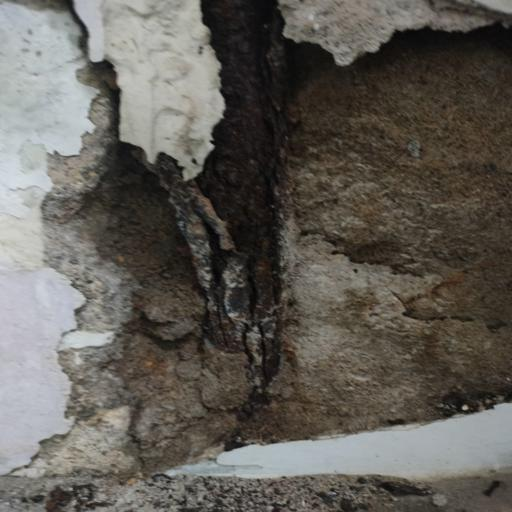spalling: (44, 14, 505, 496)
